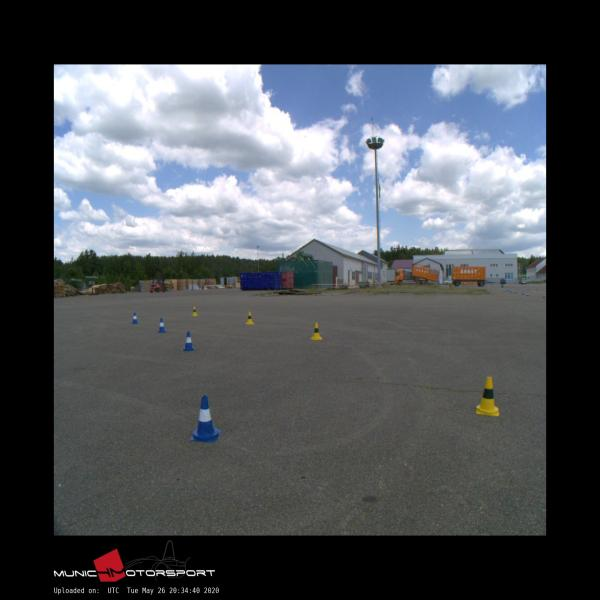blue_cone: (190, 396, 221, 441), (182, 331, 196, 350), (158, 318, 167, 332), (131, 312, 139, 322)
yellow_cone: (476, 376, 499, 416), (310, 322, 323, 340), (246, 311, 254, 324), (191, 306, 197, 315)
